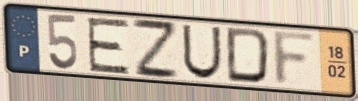5: (45, 13, 80, 71)
D: (225, 25, 273, 86)
E: (84, 16, 132, 76)
F: (271, 29, 319, 89)
U: (180, 22, 223, 81)
Z: (130, 16, 182, 81)
